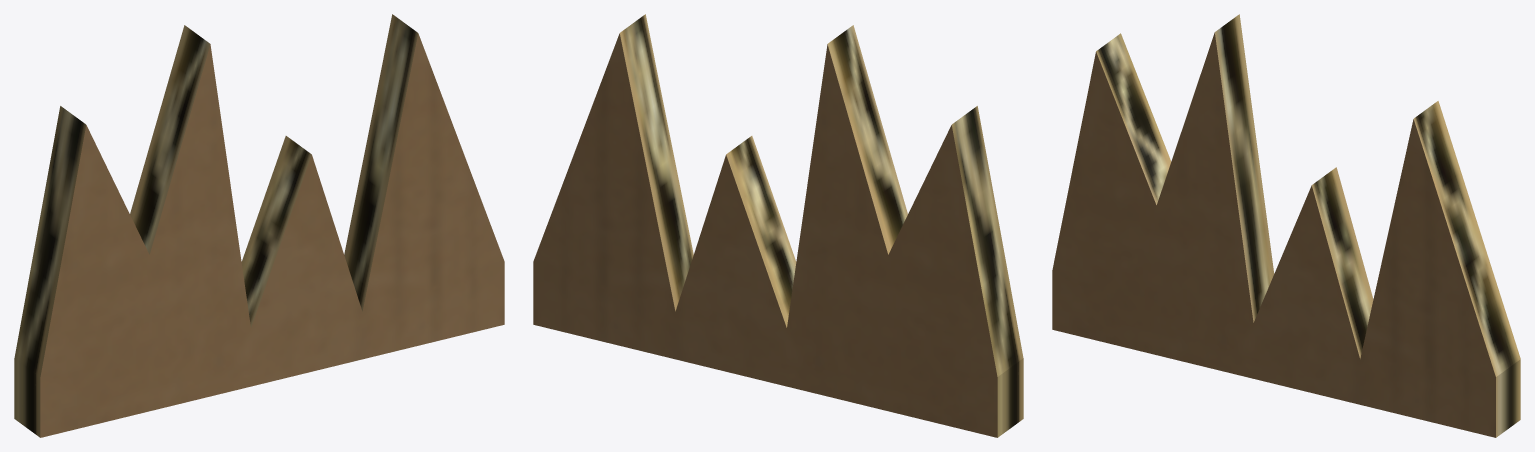
Rendered from cardboard_spikes.fbx.
3 renders of one model, left to right at view 1: azimuth 30°, elevation 25°; view 2: azimuth 150°, elevation 25°; view 3: azimuth 330°, elevation 25°, orthographic. The views are drawn at different scales.
Visible parts, largest first — view 1: pCube7.001; view 2: pCube7.001; view 3: pCube7.001.
Boxes of the visible parts, x1,y1,x2,y2 form: pCube7.001: (14, 14, 504, 437); pCube7.001: (533, 14, 1023, 437); pCube7.001: (1052, 14, 1520, 437).
Bounding box in the file's own units: 0.5026 × 0.3649 × 0.0487.
Materials: 1 (1 with a texture image).
